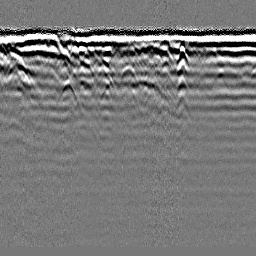cavity: (119, 64, 138, 82)
